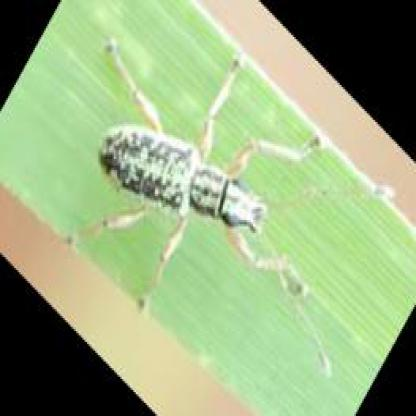ash weevil: (61, 45, 320, 314)
